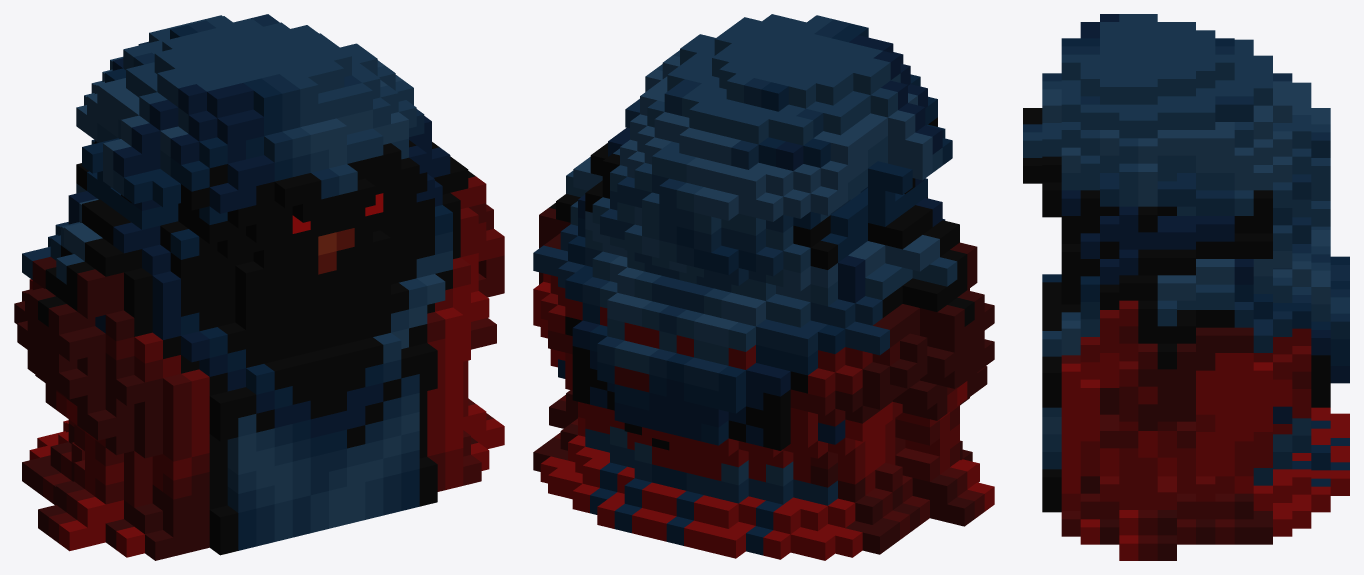
Rendered from Icon_709_02.obj.
3 renders of one model, left to right at view 1: azimuth 30°, elevation 25°; view 2: azimuth 150°, elevation 25°; view 3: azimuth 270°, elevation 25°, orthographic. The views are drawn at different scales.
Size of the model in its own units: 2.4 by 2.3 by 1.7.
1 material, 1 textured.
